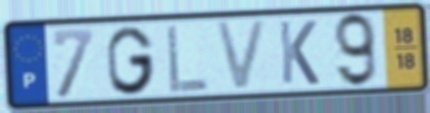7: (50, 25, 98, 100)
9: (331, 11, 379, 90)
G: (104, 24, 158, 97)
K: (276, 19, 322, 87)
L: (164, 21, 211, 95)
V: (212, 16, 271, 94)
